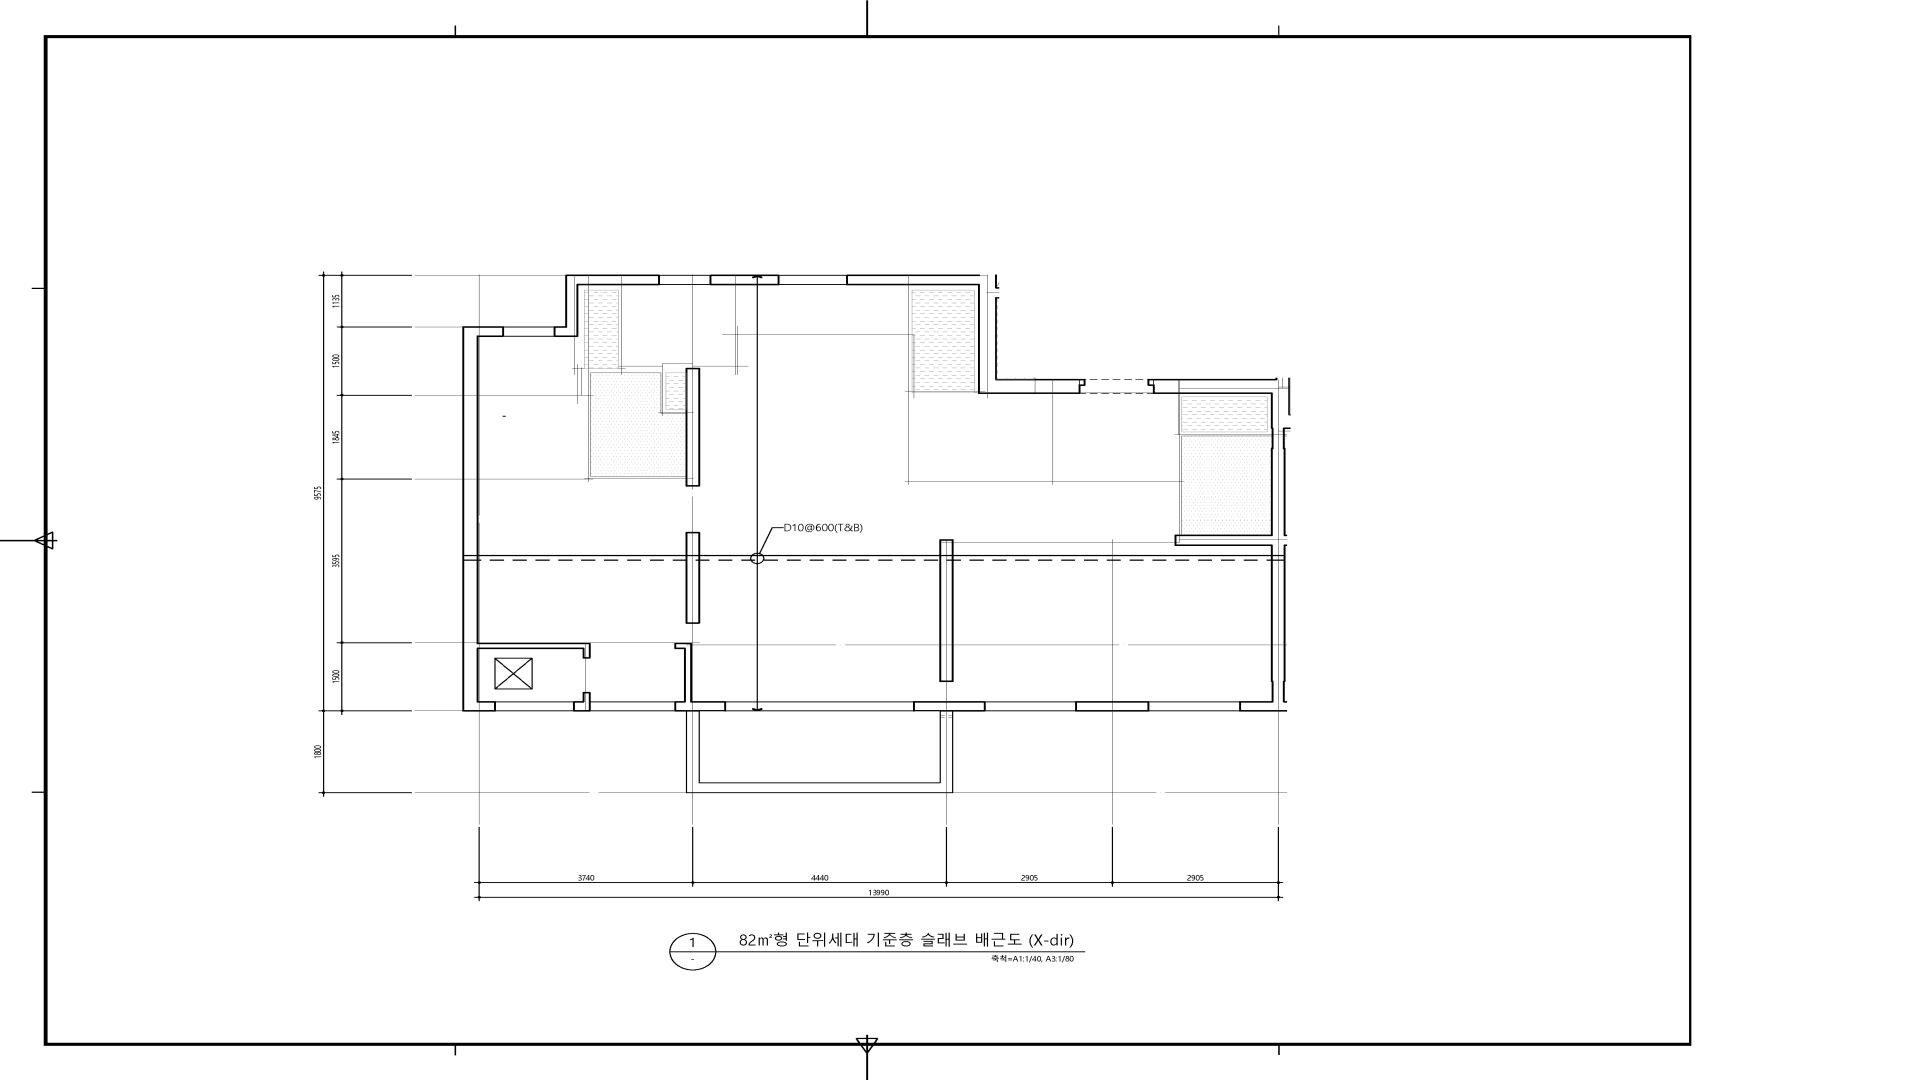wall: (463, 338, 479, 702), (1271, 430, 1286, 702), (1153, 378, 1290, 394), (939, 539, 953, 682), (978, 285, 997, 394), (686, 368, 700, 487), (847, 274, 997, 285), (686, 531, 700, 624), (997, 378, 1080, 394), (1175, 534, 1271, 546), (579, 274, 661, 285), (1075, 702, 1150, 712), (913, 702, 986, 712), (709, 274, 779, 285), (479, 642, 583, 649), (566, 274, 579, 326), (1271, 394, 1290, 429), (674, 702, 727, 712), (1240, 702, 1287, 712), (463, 326, 504, 338), (684, 649, 692, 702), (463, 702, 496, 712), (554, 326, 579, 338), (572, 702, 591, 712), (583, 642, 591, 659), (674, 642, 692, 649), (583, 692, 591, 702), (1080, 378, 1085, 386), (1147, 378, 1153, 386)
